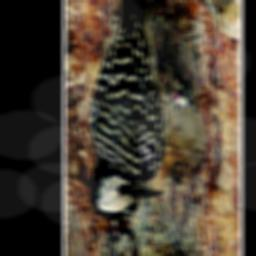Woodpecker: (82, 0, 203, 229)
